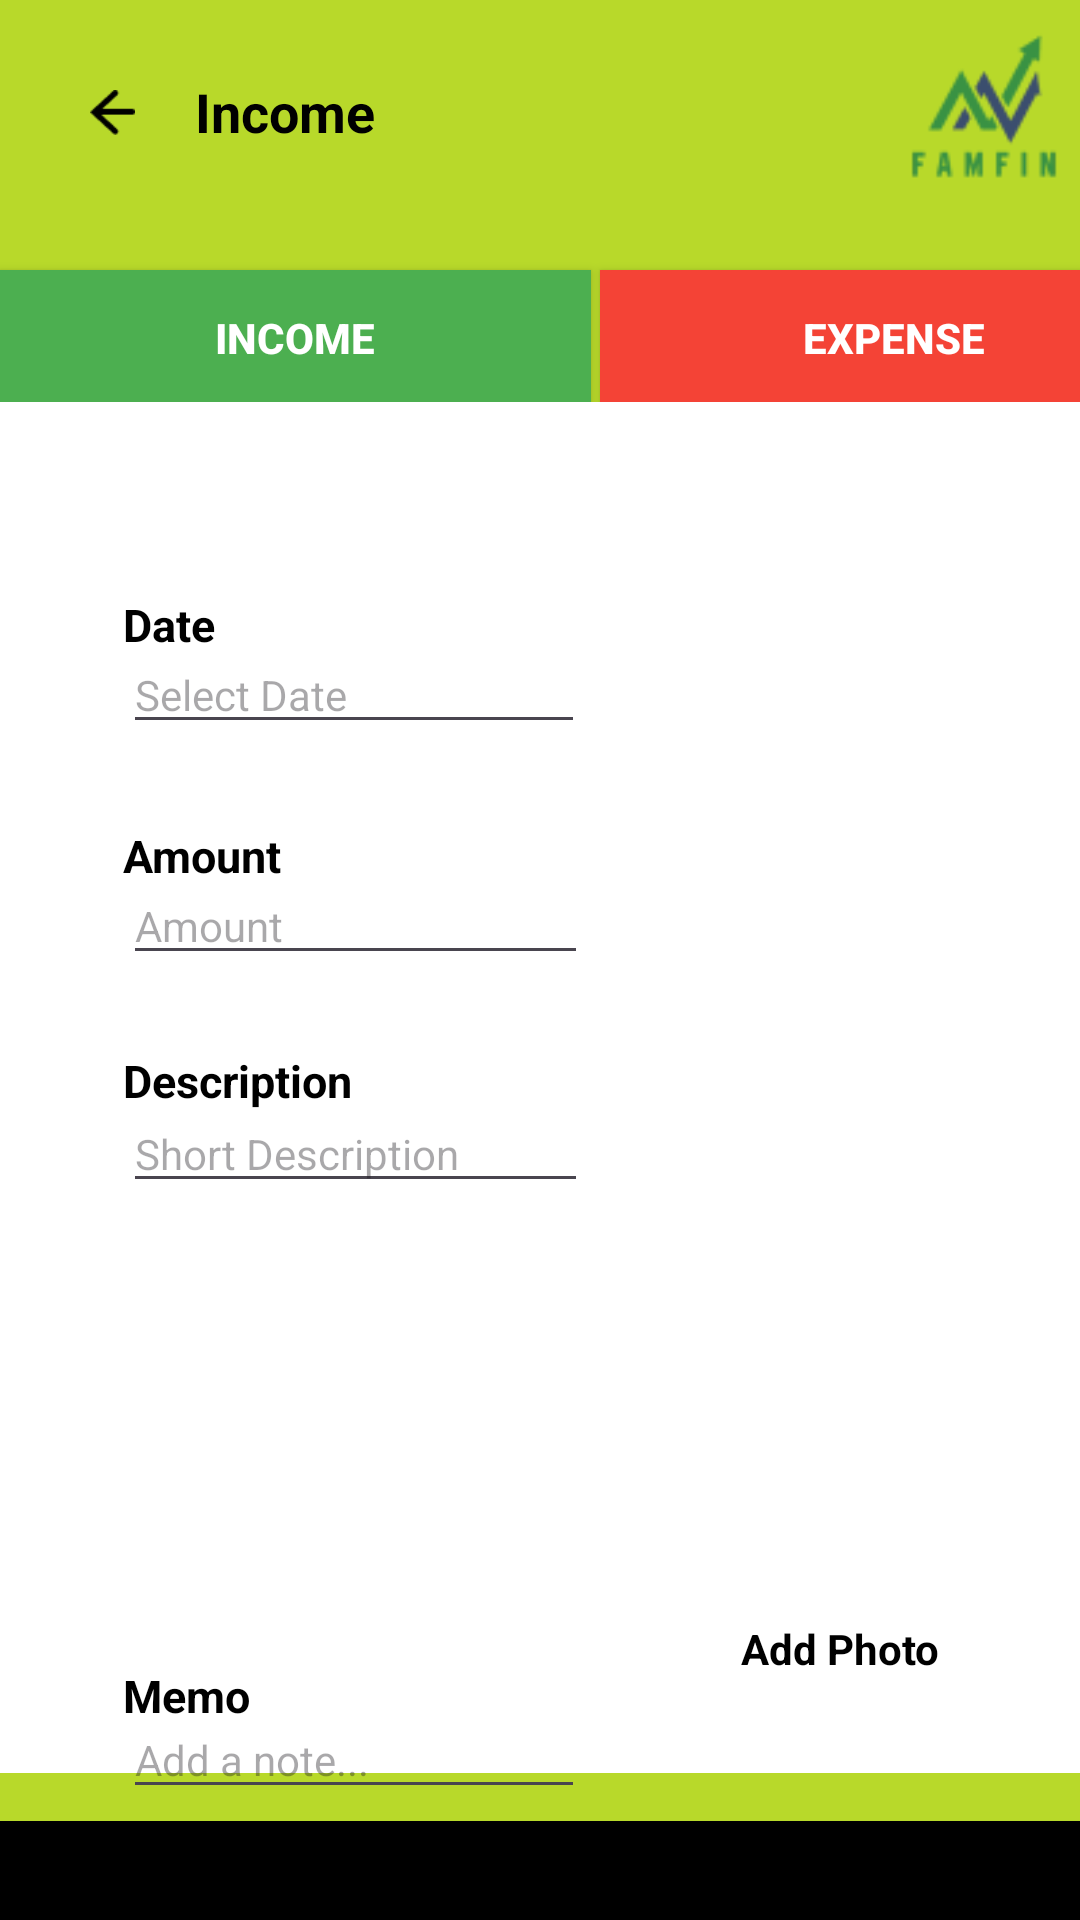

Named icons in this screenshot (1080w x 1920h) and their centers, point (x, y):
Back Button: point (112, 112)
